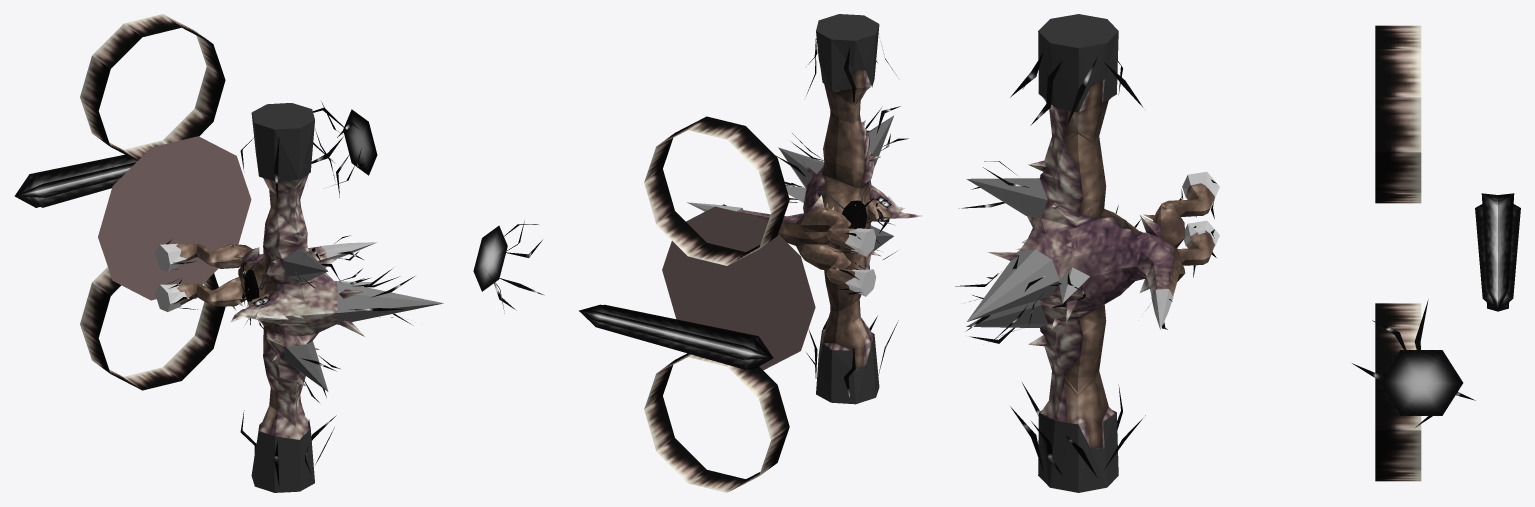
3 views of the same model, side by side, from view 1: azimuth 30°, elevation 25°; view 2: azimuth 150°, elevation 25°; view 3: azimuth 270°, elevation 25° (orthographic). The views are drawn at different scales.
Parts seen in each view (by area): view 1: M_0107_1, M_0107_0; view 2: M_0107_1, M_0107_0; view 3: M_0107_1, M_0107_0.
Part boxes in pixels (x1,y1,x2,y2): M_0107_1: [14, 14, 443, 492]; M_0107_0: [176, 174, 365, 439]; M_0107_1: [473, 14, 908, 492]; M_0107_0: [737, 69, 924, 371]; M_0107_1: [955, 14, 1520, 492]; M_0107_0: [987, 79, 1214, 448].
Bounding box in the file's own units: 13.05 × 14.43 × 16.65.
Materials: 2 (2 with a texture image).
